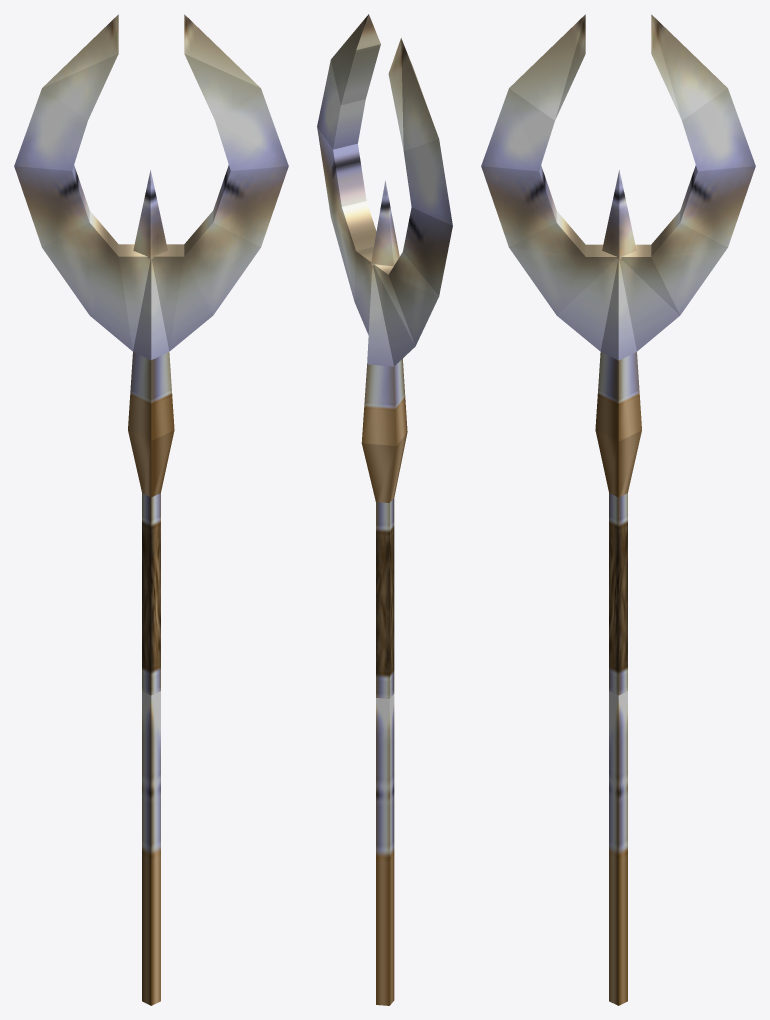
Rendered from longarm03.obj.
The picture shows the model from 3 angles, left to right: view 1: azimuth 90°, elevation 25°; view 2: azimuth 210°, elevation 25°; view 3: azimuth 270°, elevation 25°; orthographic projection.
Parts seen in each view (by area): view 1: longarm03; view 2: longarm03; view 3: longarm03.
Part boxes in pixels (bbox=[...]): longarm03: bbox=[14, 14, 288, 1005]; longarm03: bbox=[317, 14, 452, 1005]; longarm03: bbox=[481, 14, 755, 1005].
Bounding box in the file's own units: 0.1175 × 2.39 × 0.6037.
